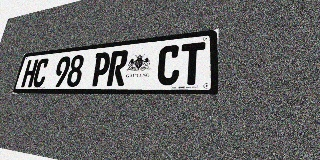8: (65, 54, 86, 87)
9: (52, 56, 72, 87)
C: (156, 44, 181, 85), (31, 58, 50, 87)
H: (21, 59, 39, 87)
P: (90, 52, 112, 86)
R: (106, 50, 129, 86)
T: (179, 42, 205, 85)
